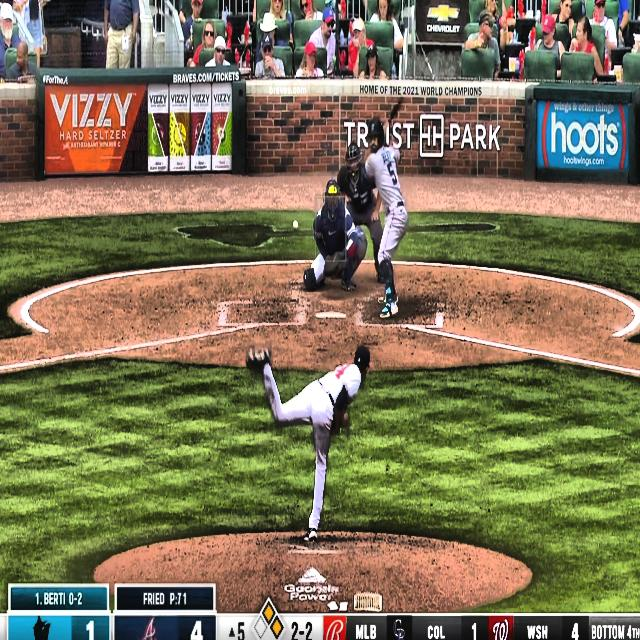baseball: (292, 220, 298, 230)
